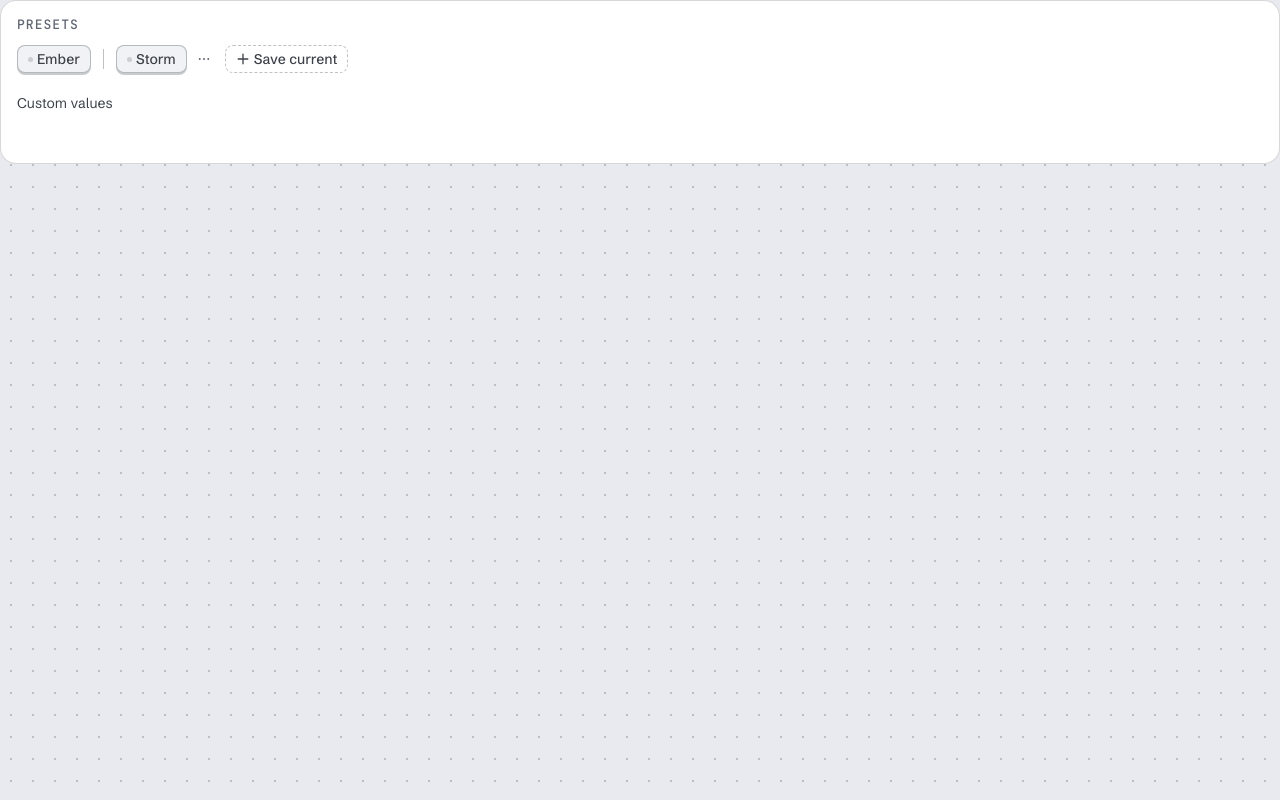
PresetStrip › names the reason when the daemon could not save, not just that it refused
Click the button with aria-label "Save current values as a preset": (286, 59) [225,45,348,73]
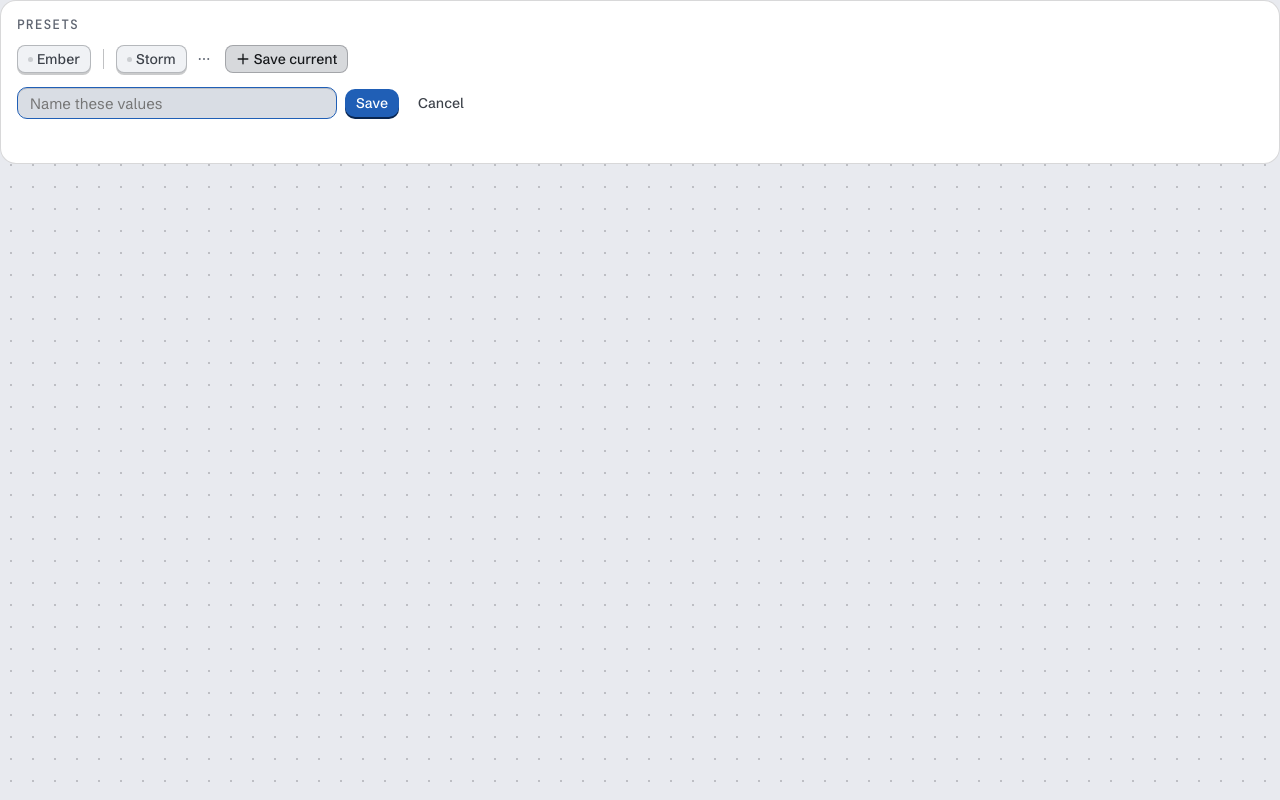
In the field named "Preset name": (177, 103) [17,87,337,119], type "Gale"
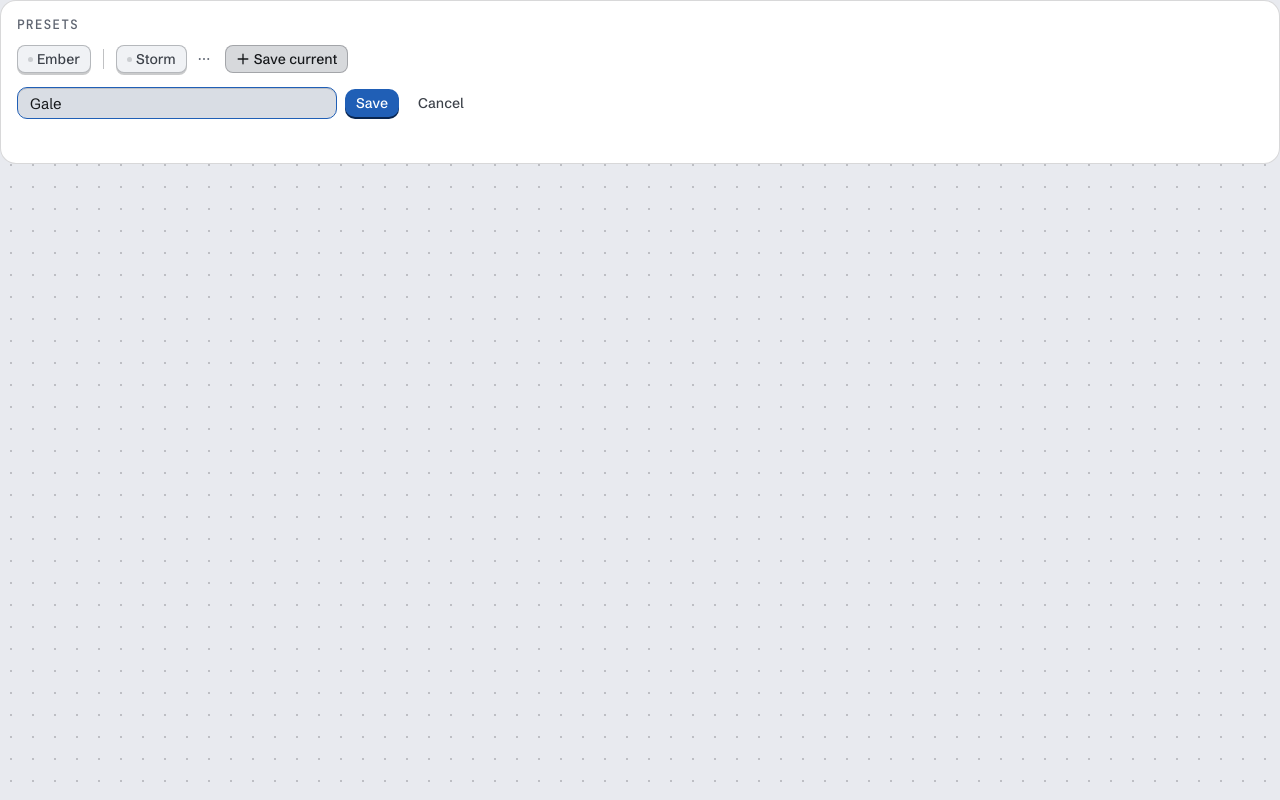
Press Enter in the field named "Preset name", box [17,87,337,119]
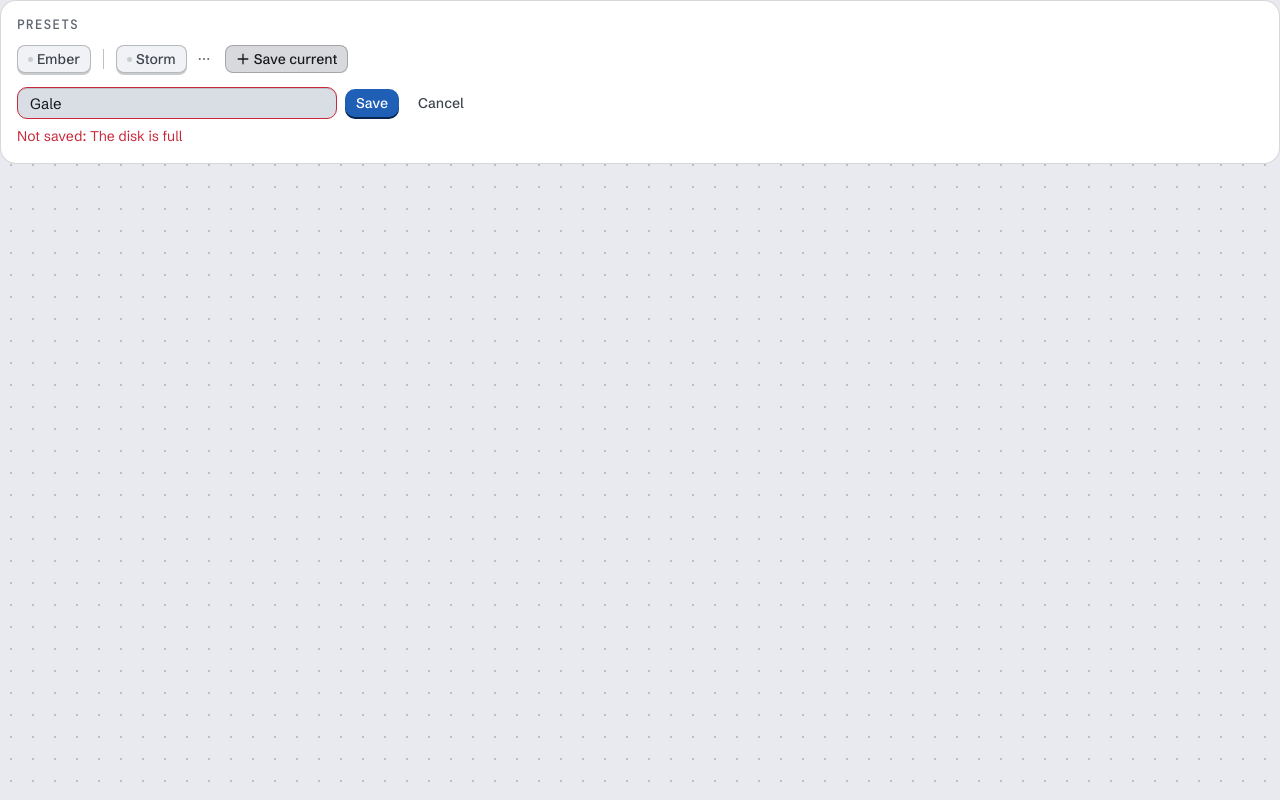
Now the message reads "Not saved: The disk is full", box [17,127,182,145]
